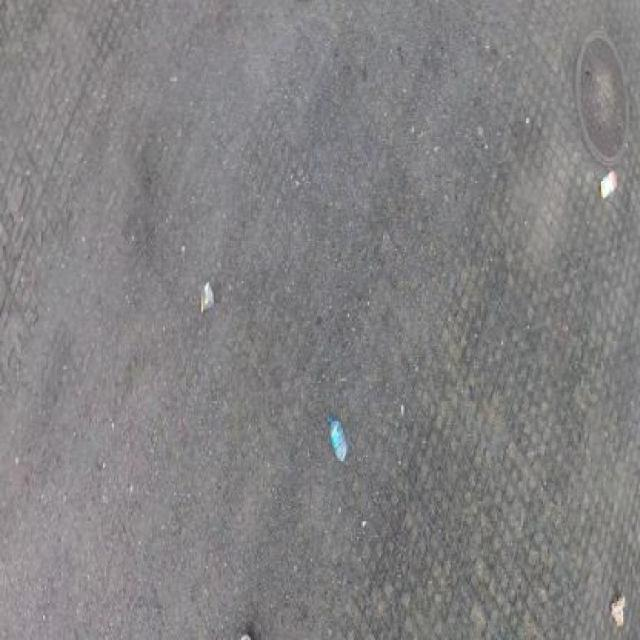Garbage: (329, 417, 348, 463), (598, 170, 619, 202), (609, 596, 627, 628), (200, 280, 213, 313)
